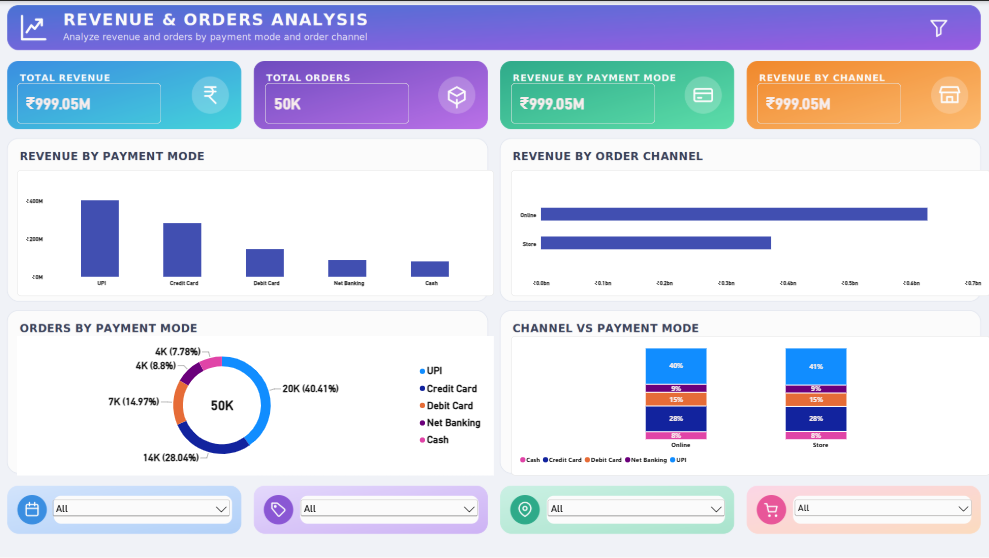

This screenshot's page, from the dashboard's own definition file:
{"tool":"powerbi","page":{"name":"Sales Channel & Payment Analysis","canvas":[1920,1080],"ordinal":5},"visuals":[{"type":"cardVisual","fields":{"Data":["retail_sales_cleaned.Total Revenue"]},"box":[37.2,158.1,279.1,79.1],"z":0},{"type":"cardVisual","fields":{"Data":["retail_sales_cleaned.Total Orders"]},"box":[516.3,158.1,279.1,79.1],"z":1000},{"type":"cardVisual","fields":{"Data":["retail_sales_cleaned.Total Revenue"]},"box":[993,158.1,279.1,79.1],"z":2000},{"type":"cardVisual","fields":{"Data":["retail_sales_cleaned.Total Revenue"]},"box":[1469.8,158.1,279.1,79.1],"z":3000},{"type":"clusteredColumnChart","fields":{"Category":["retail_sales_cleaned.Payment_Mode"],"Y":["retail_sales_cleaned.Total Revenue"]},"box":[37.2,327.9,923.3,244.2],"z":4000},{"type":"clusteredBarChart","fields":{"Category":["retail_sales_cleaned.Order_Channel"],"Y":["retail_sales_cleaned.Total Revenue"]},"box":[993,327.9,927.9,244.2],"z":5000},{"type":"donutChart","fields":{"Category":["retail_sales_cleaned.Payment_Mode"],"Y":["retail_sales_cleaned.Total Orders"]},"box":[37.2,648.8,923.3,269.8],"z":6000},{"type":"hundredPercentStackedColumnChart","fields":{"Category":["retail_sales_cleaned.Order_Channel"],"Series":["retail_sales_cleaned.Payment_Mode"],"Y":["CountNonNull(retail_sales_cleaned.Order_ID)"]},"box":[993,648.8,927.9,269.8],"z":7000},{"type":"slicer","fields":{"Values":["retail_sales_cleaned.Year"]},"box":[101.3,959.5,353.2,54.4],"z":7001},{"type":"slicer","fields":{"Values":["retail_sales_cleaned.Category"]},"box":[581,959.5,353.2,54.4],"z":7002},{"type":"slicer","fields":{"Values":["retail_sales_cleaned.Location"]},"box":[1058.2,959.5,353.2,54.4],"z":7003},{"type":"slicer","fields":{"Values":["retail_sales_cleaned.Order_Channel"]},"box":[1536.7,959.5,353.2,54.4],"z":7004}]}

Visuals, with their boxes in screenshot pixels (x1, y1, x2, y2), scaled from the page's 1920x1080 canvas onto the 989x558 screenshot:
cardVisual - retail_sales_cleaned.Total Revenue: BBox(19, 82, 163, 123)
cardVisual - retail_sales_cleaned.Total Orders: BBox(266, 82, 410, 123)
cardVisual - retail_sales_cleaned.Total Revenue: BBox(511, 82, 655, 123)
cardVisual - retail_sales_cleaned.Total Revenue: BBox(757, 82, 901, 123)
clusteredColumnChart - retail_sales_cleaned.Payment_Mode x retail_sales_cleaned.Total Revenue: BBox(19, 169, 495, 296)
clusteredBarChart - retail_sales_cleaned.Order_Channel x retail_sales_cleaned.Total Revenue: BBox(511, 169, 988, 296)
donutChart - retail_sales_cleaned.Payment_Mode x retail_sales_cleaned.Total Orders: BBox(19, 335, 495, 475)
hundredPercentStackedColumnChart - retail_sales_cleaned.Order_Channel x retail_sales_cleaned.Payment_Mode: BBox(511, 335, 988, 475)
slicer - retail_sales_cleaned.Year: BBox(52, 496, 234, 524)
slicer - retail_sales_cleaned.Category: BBox(299, 496, 481, 524)
slicer - retail_sales_cleaned.Location: BBox(545, 496, 727, 524)
slicer - retail_sales_cleaned.Order_Channel: BBox(792, 496, 973, 524)
